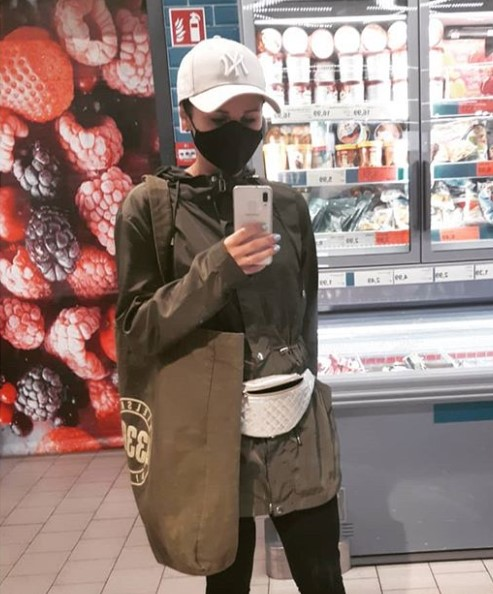face_with_mask: (179, 35, 275, 182)
